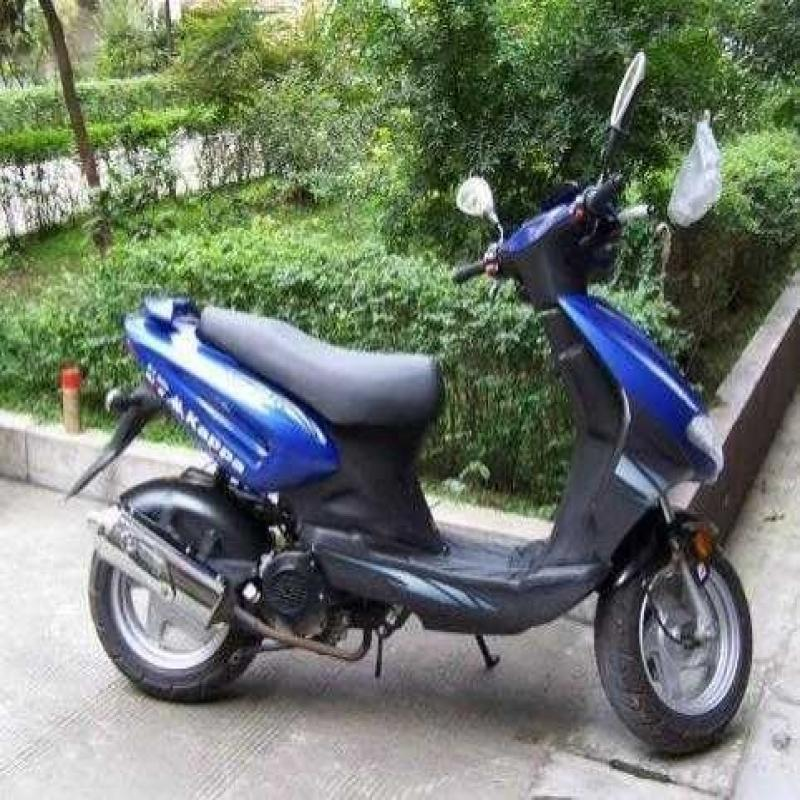bike: (79, 113, 759, 751)
